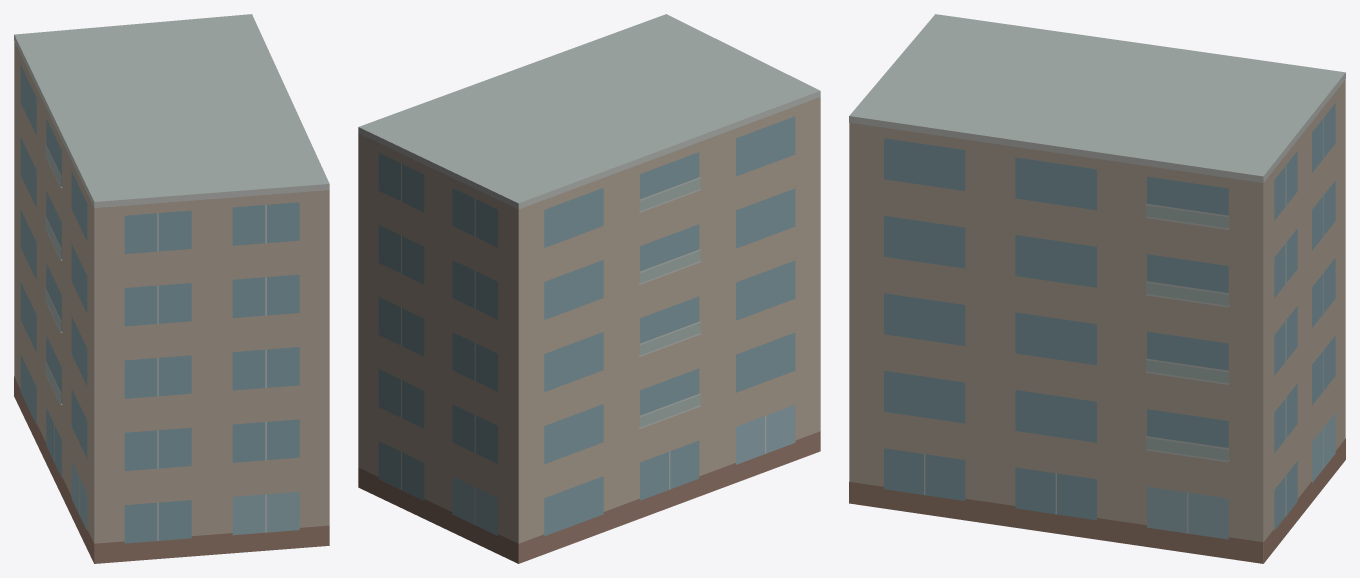
File: survey-upis-32887697.glb
3 views of the same model, side by side, from view 1: azimuth 30°, elevation 25°; view 2: azimuth 150°, elevation 25°; view 3: azimuth 270°, elevation 25° (orthographic). The views are drawn at different scales.
Parts seen in each view (by area): view 1: survey-upis-32887697.tmp; view 2: survey-upis-32887697.tmp; view 3: survey-upis-32887697.tmp.
Boxes of the visible parts, x1,y1,x2,y2 form: survey-upis-32887697.tmp: (14,14,329,563); survey-upis-32887697.tmp: (358,14,820,563); survey-upis-32887697.tmp: (849,14,1345,563).
Size of the model in its own units: 12.96 by 14.4 by 16.74.
